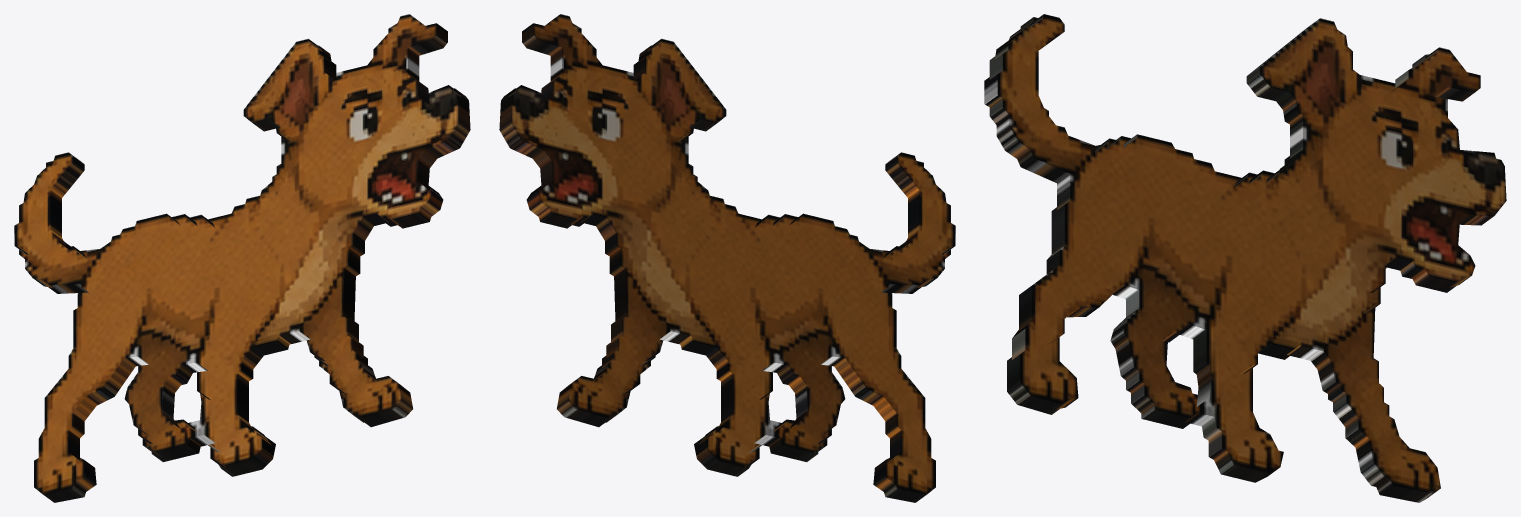
File: dog_bark.glb
The picture shows the model from 3 angles, left to right: view 1: azimuth 30°, elevation 25°; view 2: azimuth 150°, elevation 25°; view 3: azimuth 330°, elevation 25°; orthographic projection. The views are drawn at different scales.
Parts seen in each view (by area): view 1: world; view 2: world; view 3: world.
Boxes of the visible parts, x1,y1,x2,y2 form: world: (14,14,470,502); world: (499,14,955,502); world: (984,14,1506,502).
Bounding box in the file's own units: 2.95 × 2.59 × 0.13.
Materials: 1 (1 with a texture image).
